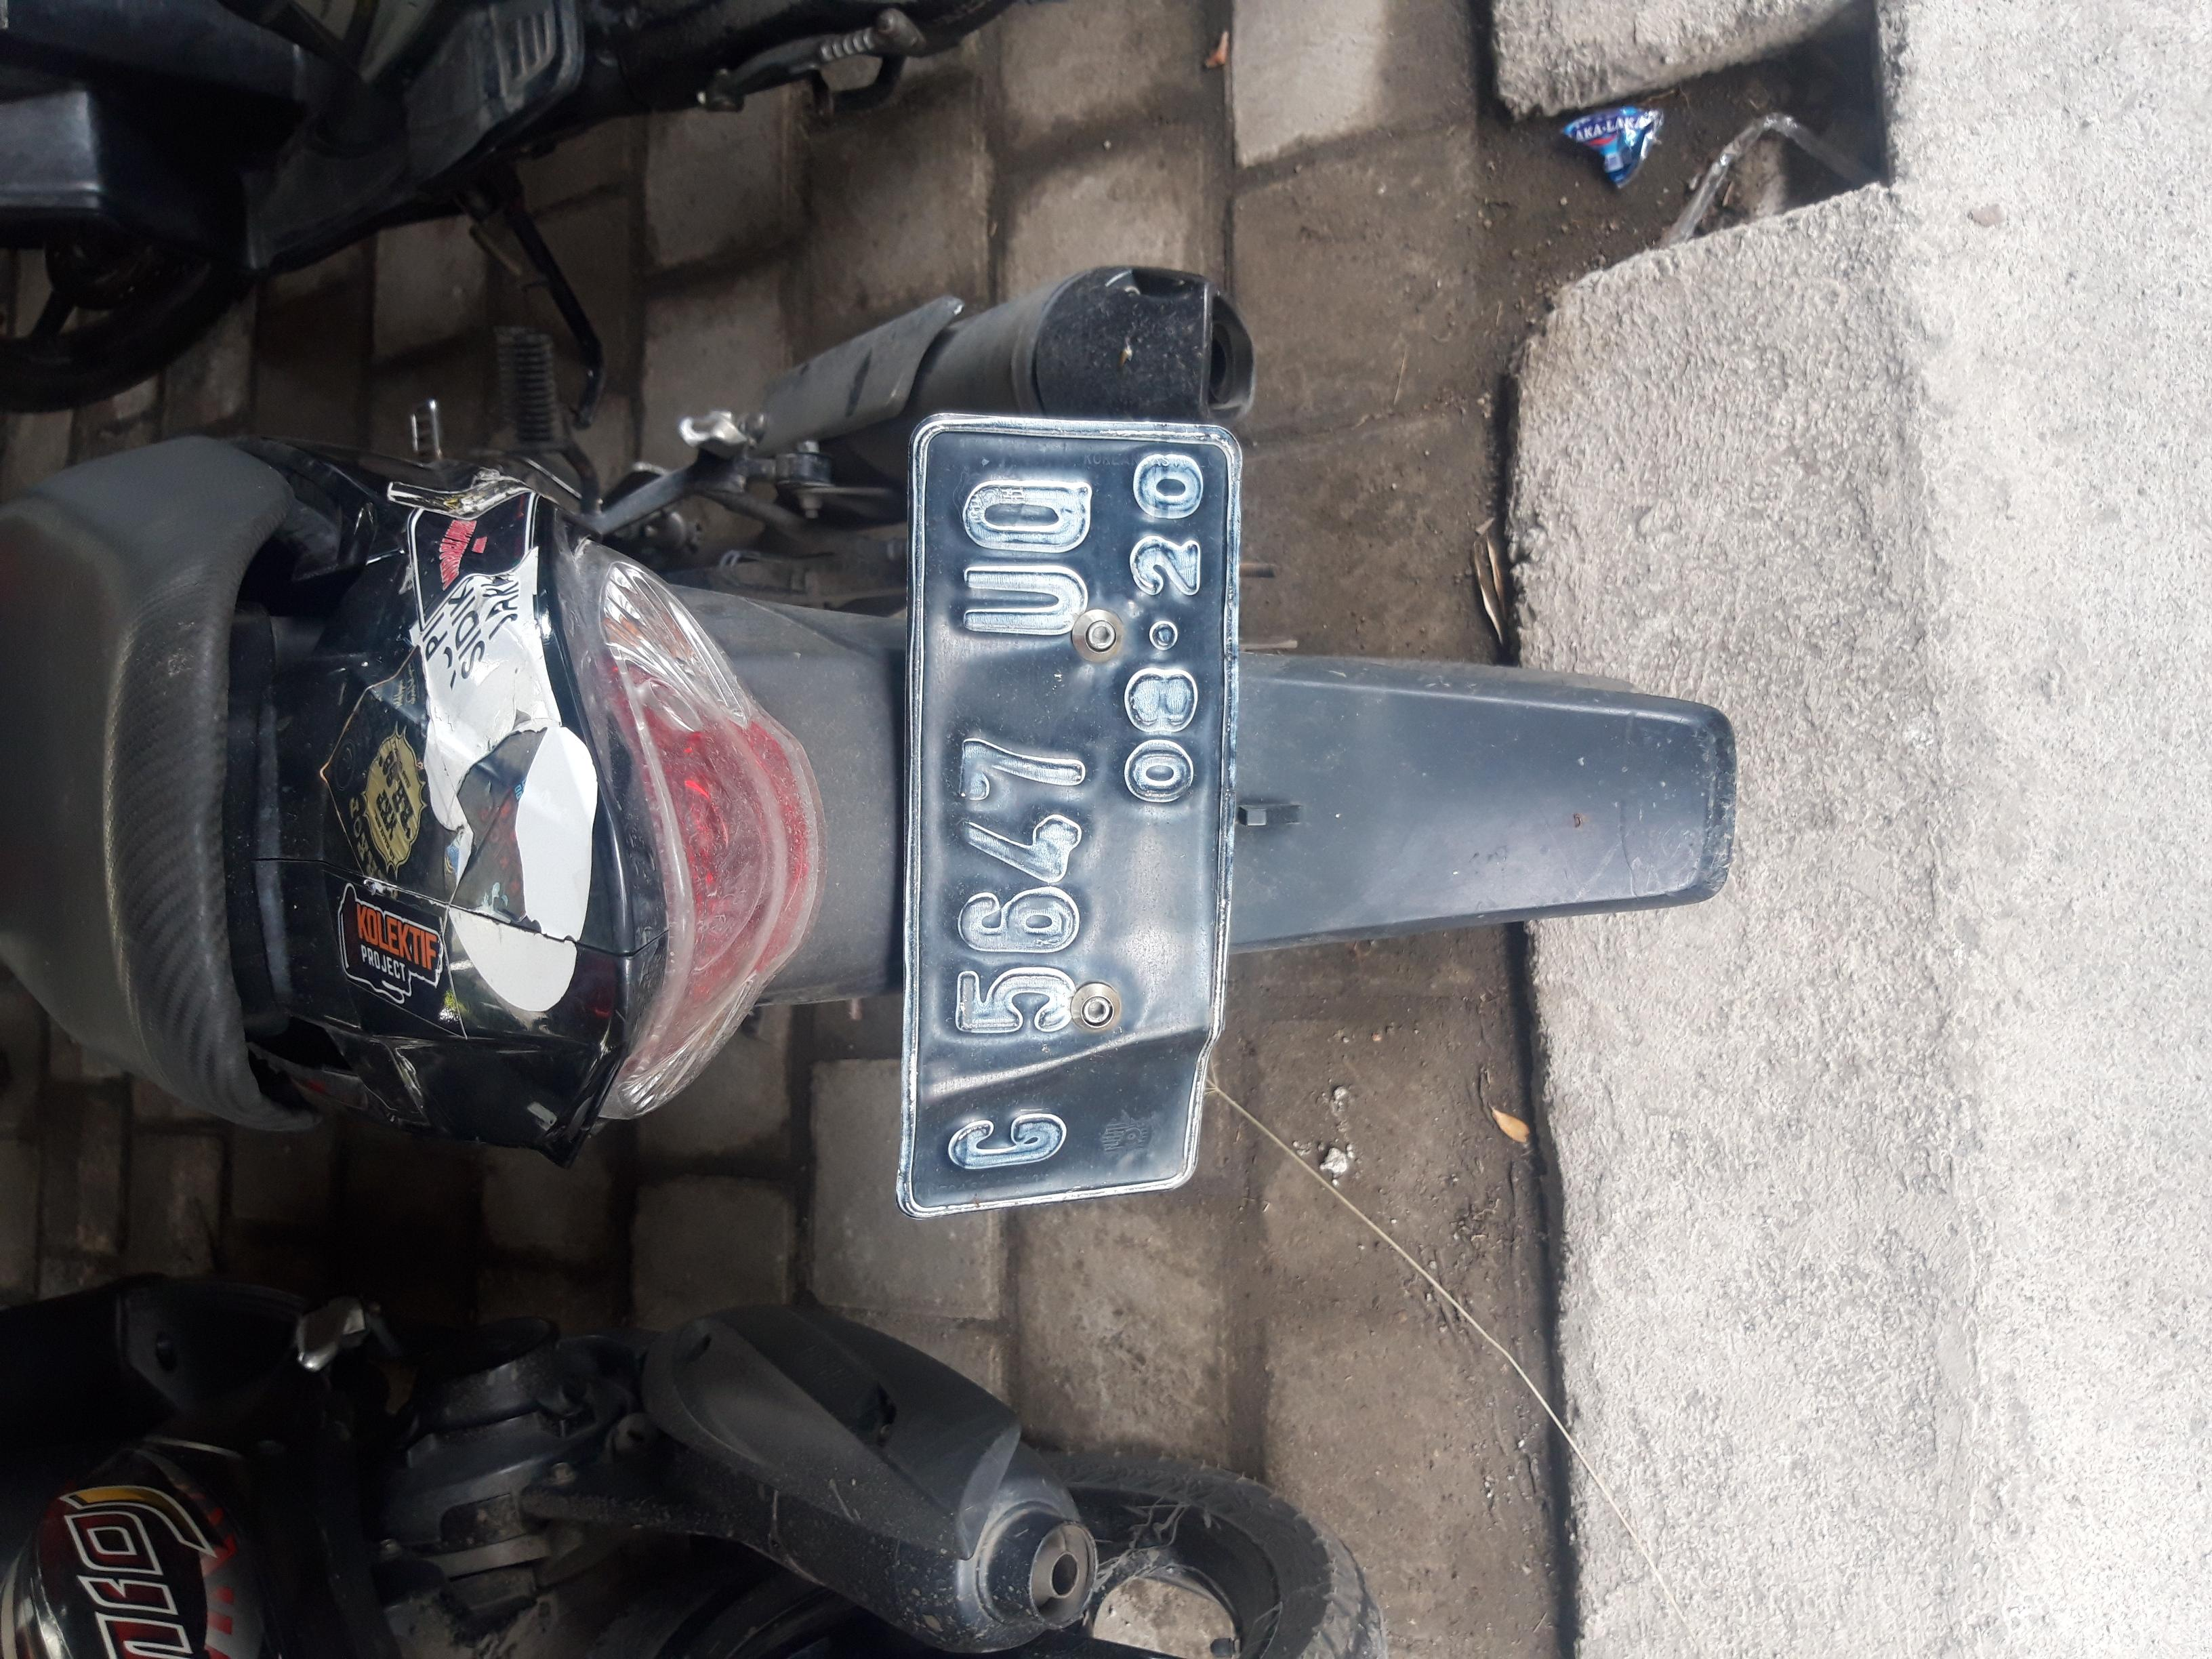plat: (587, 674, 1658, 931)
